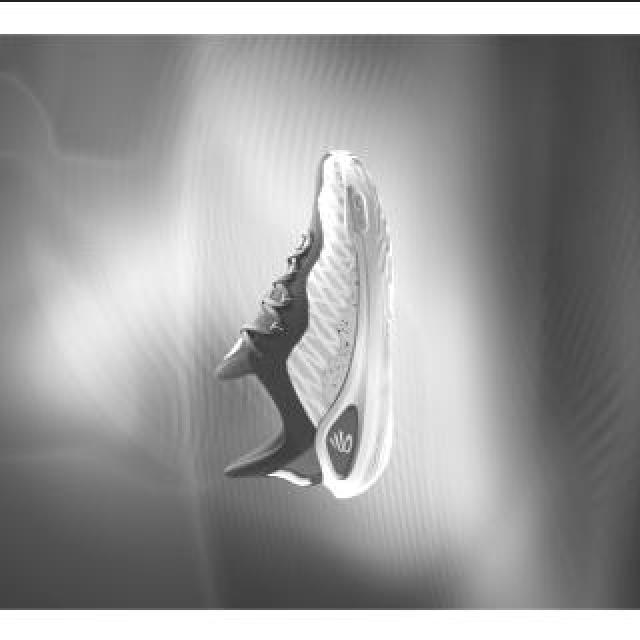shoe: (213, 152, 393, 496)
